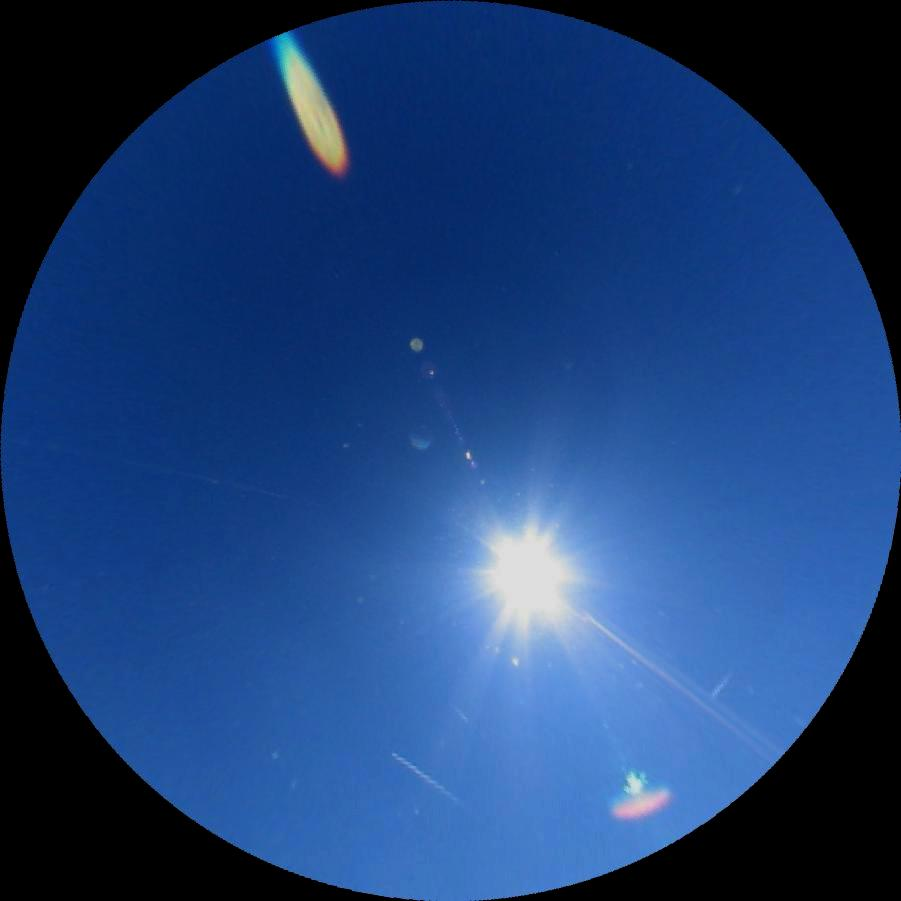contrail young: (389, 749, 474, 814), (708, 673, 732, 701), (449, 704, 471, 724)
parasite: (563, 600, 777, 765), (2, 433, 296, 503)
sun: (474, 519, 581, 634)
